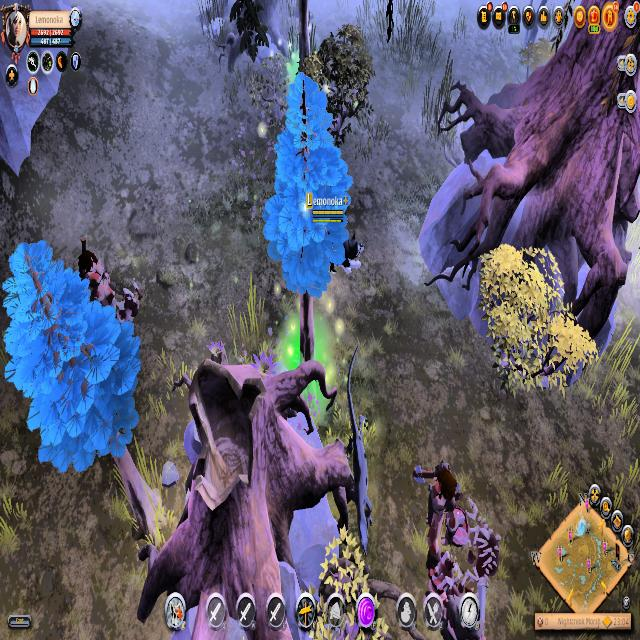wood tier 4: (0, 239, 143, 471)
